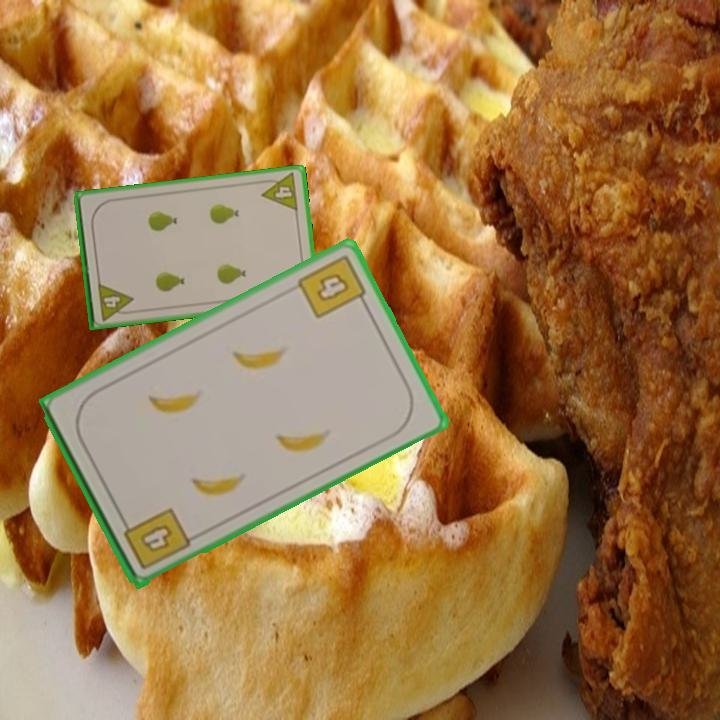4b: (294, 250, 372, 322), (117, 503, 193, 572)
4p: (257, 170, 301, 214), (94, 279, 137, 323)
